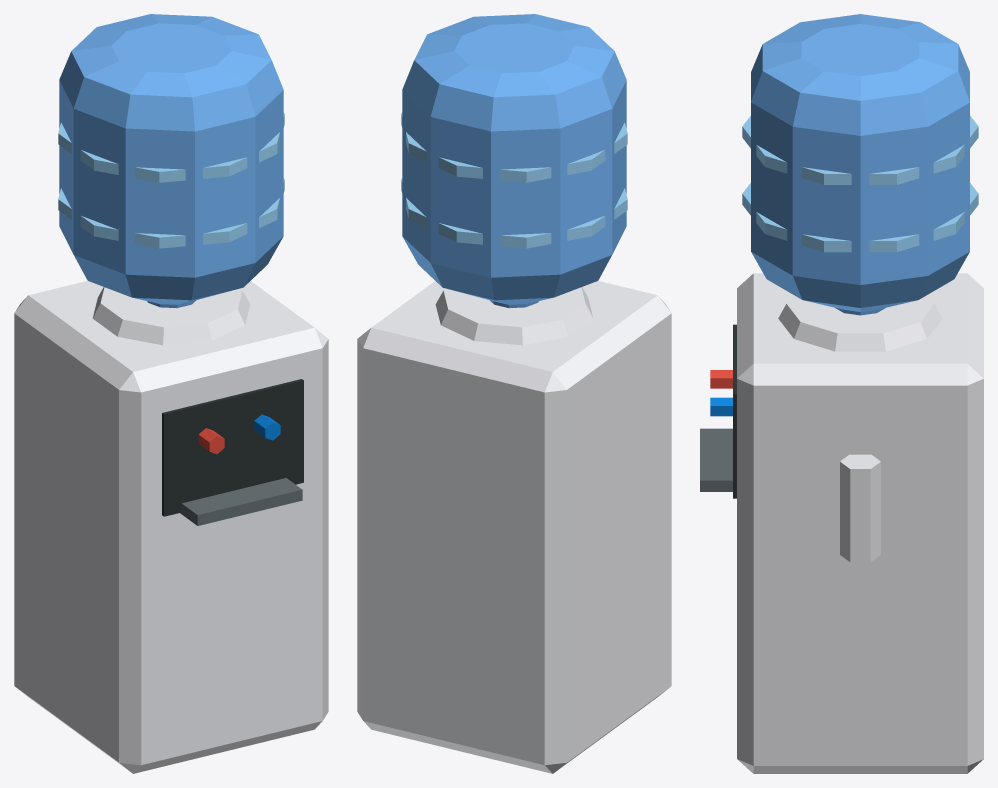
File: waterCooler.glb
The picture shows the model from 3 angles, left to right: view 1: azimuth 30°, elevation 25°; view 2: azimuth 150°, elevation 25°; view 3: azimuth 270°, elevation 25°; orthographic projection. The views are drawn at different scales.
Parts seen in each view (by area): view 1: waterCooler-m; view 2: waterCooler-m; view 3: waterCooler-m.
Boxes of the visible parts, bbox=[...] form: waterCooler-m: bbox=[14, 14, 328, 773]; waterCooler-m: bbox=[357, 14, 671, 773]; waterCooler-m: bbox=[700, 14, 983, 773].
Size of the model in its own units: 0.6833 by 1.82 by 0.69.
